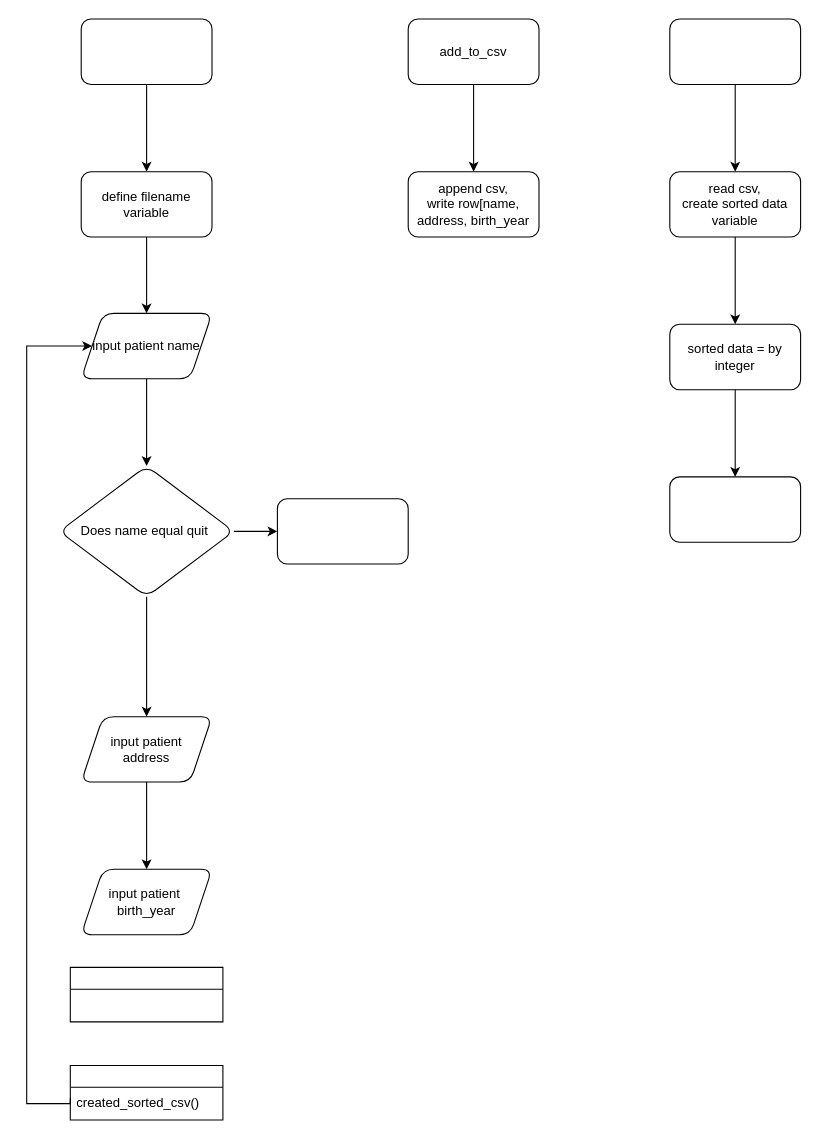
Image size: 820x1139. Some labels were removed from this diagram. Each missing label, with the centre of its shape:
"add_to_csv()" belongs at [146,994].
"create_sorted_csv" belongs at [735,51].
"open csv in write mode, write data to csv using previously defined variables" belongs at [735,509].
"quit" belongs at [342,531].
"Start" belongs at [146,51].
